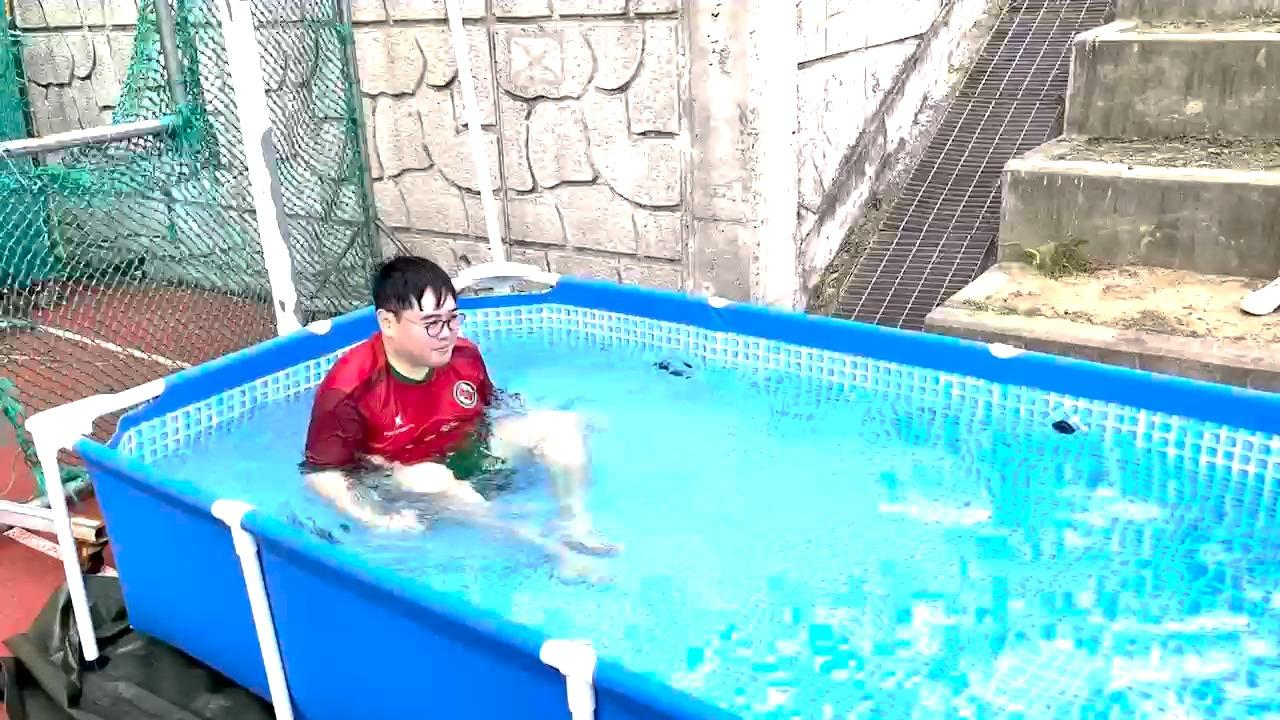Swimming: (223, 215, 656, 594)
